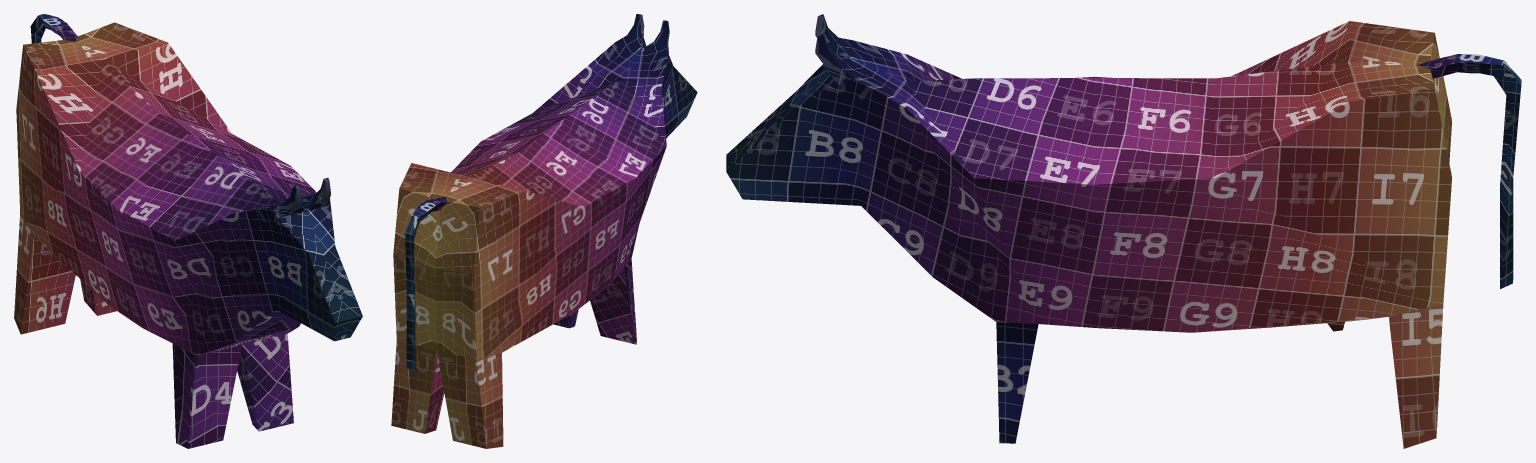
File: cow03.fbx
The picture shows the model from 3 angles, left to right: view 1: azimuth 30°, elevation 25°; view 2: azimuth 150°, elevation 25°; view 3: azimuth 270°, elevation 25°; orthographic projection. The views are drawn at different scales.
Visible parts, largest first — view 1: pCube4; view 2: pCube4; view 3: pCube4.
Boxes of the visible parts, box(x1,y1,x2,y2) form: pCube4: box(14, 14, 362, 448); pCube4: box(391, 14, 697, 448); pCube4: box(726, 14, 1521, 448).
Bounding box in the file's own units: 1.79 × 2.99 × 5.57.
